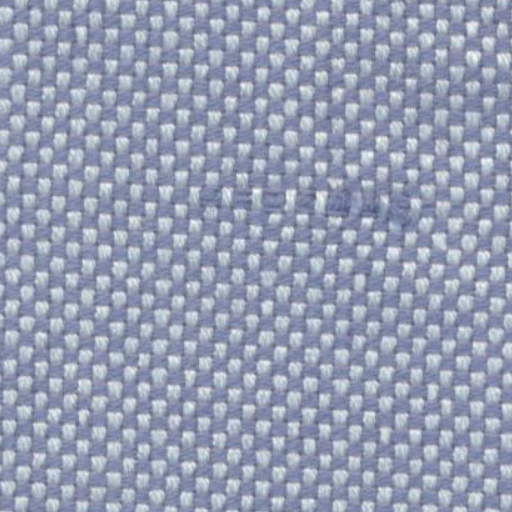TuoSha: (204, 162, 417, 244)
